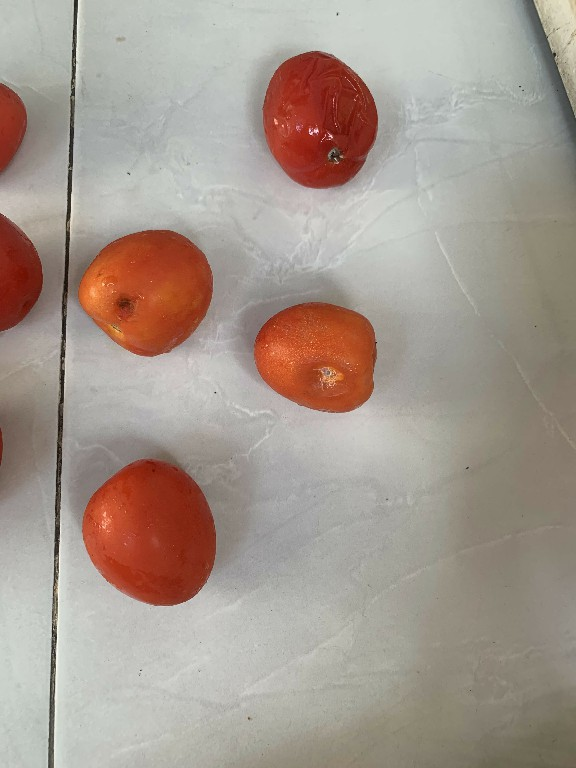NG: (74, 221, 228, 368), (259, 42, 384, 196), (251, 294, 389, 420)
OK: (68, 445, 226, 607)
